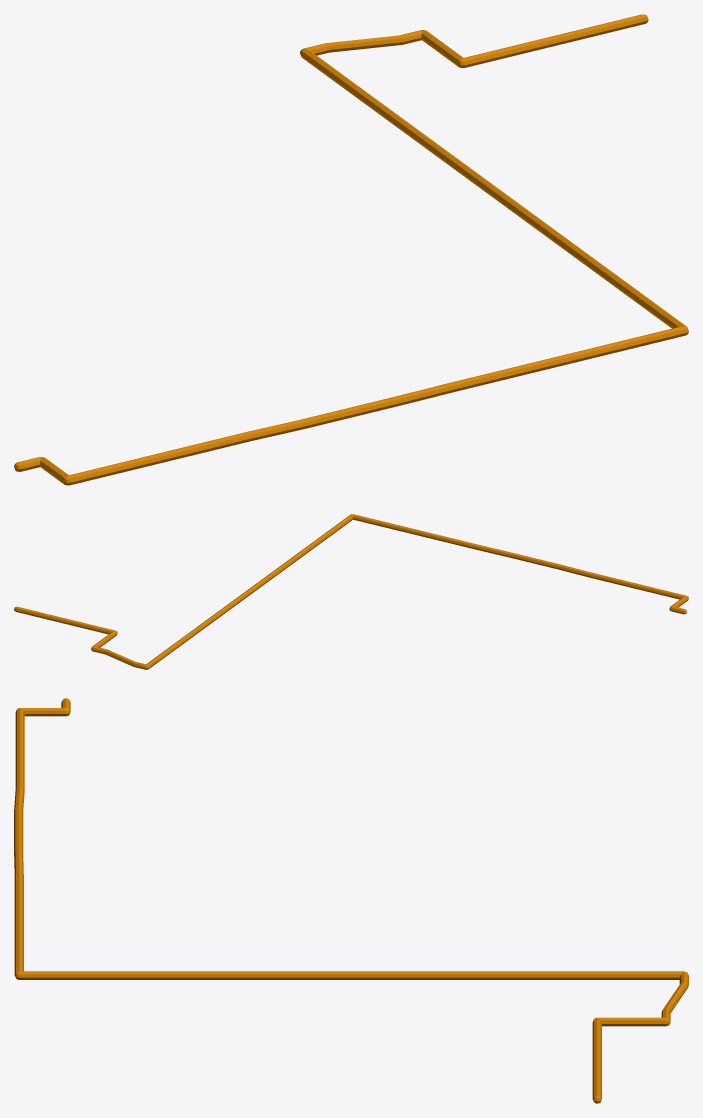
The picture shows the model from 3 angles, top to bottom: view 1: azimuth 30°, elevation 25°; view 2: azimuth 150°, elevation 25°; view 3: azimuth 270°, elevation 25°; orthographic projection. The views are drawn at different scales.
Size of the model in its own units: 2068 by 20 by 1472.
